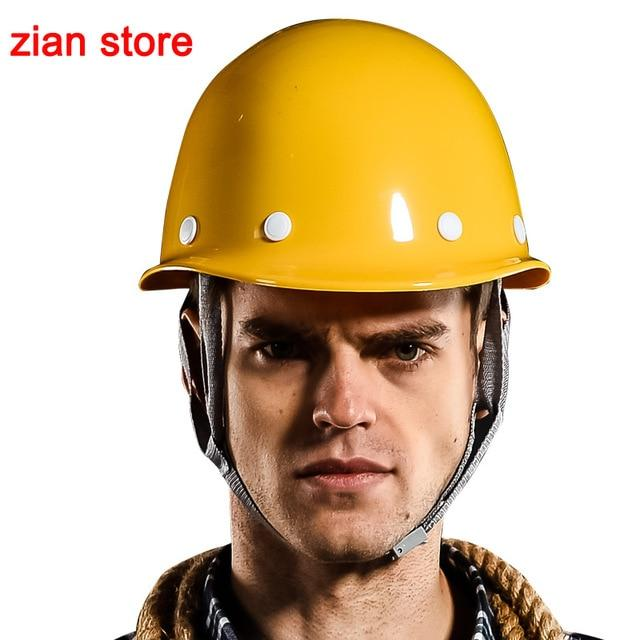helmet: (137, 23, 561, 290)
